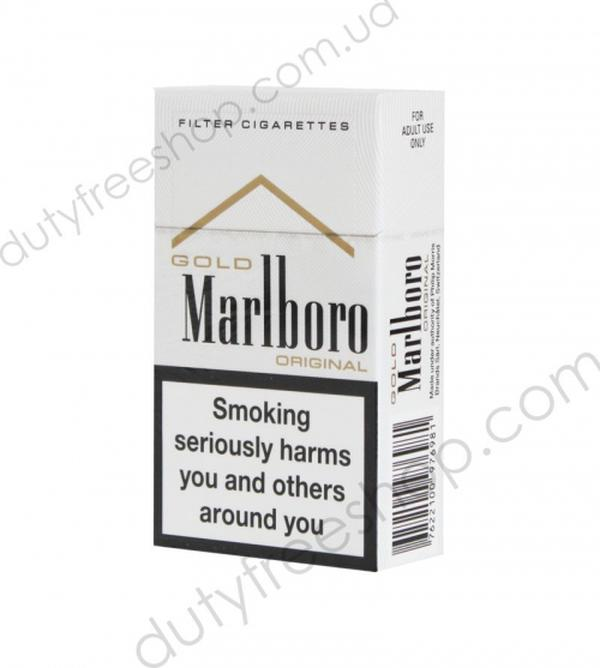marlboro_gold: (157, 92, 376, 545)
